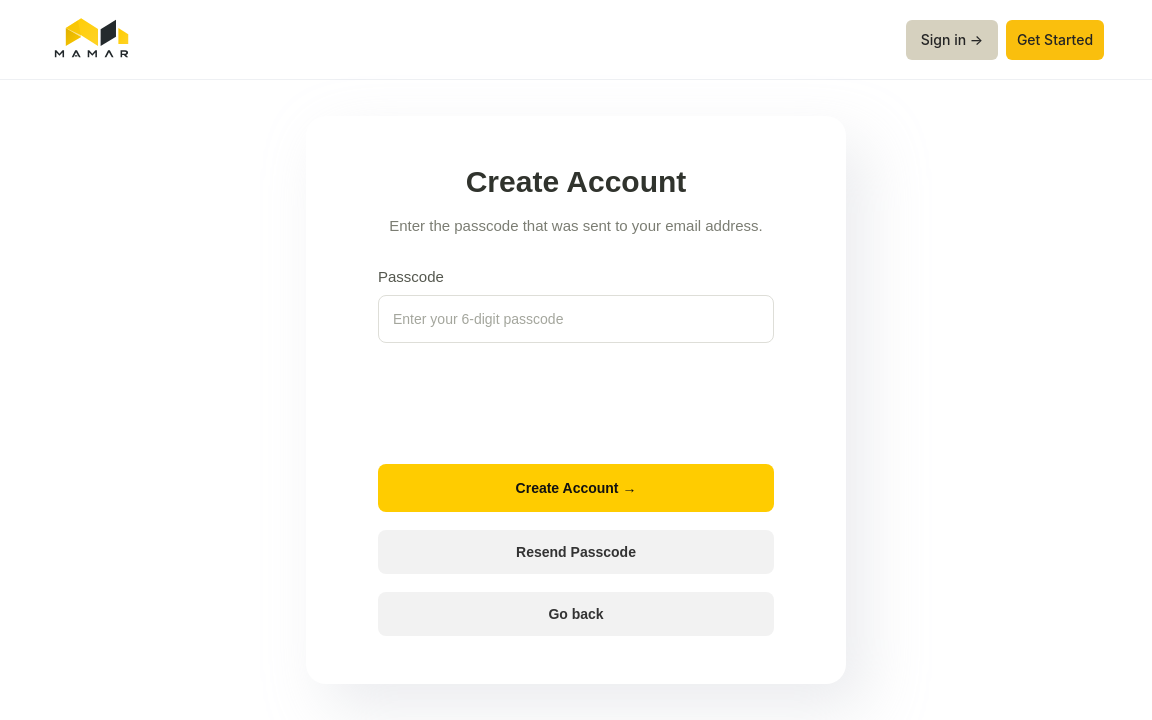
Test: RegisterVerificationPage - إنشاء الحساب › حقل الرمز يقبل أرقام فقط وبحد 6
Type "12ab34567890" into the field labelled "Passcode". click: (576, 319)
box: [378,295,774,343]
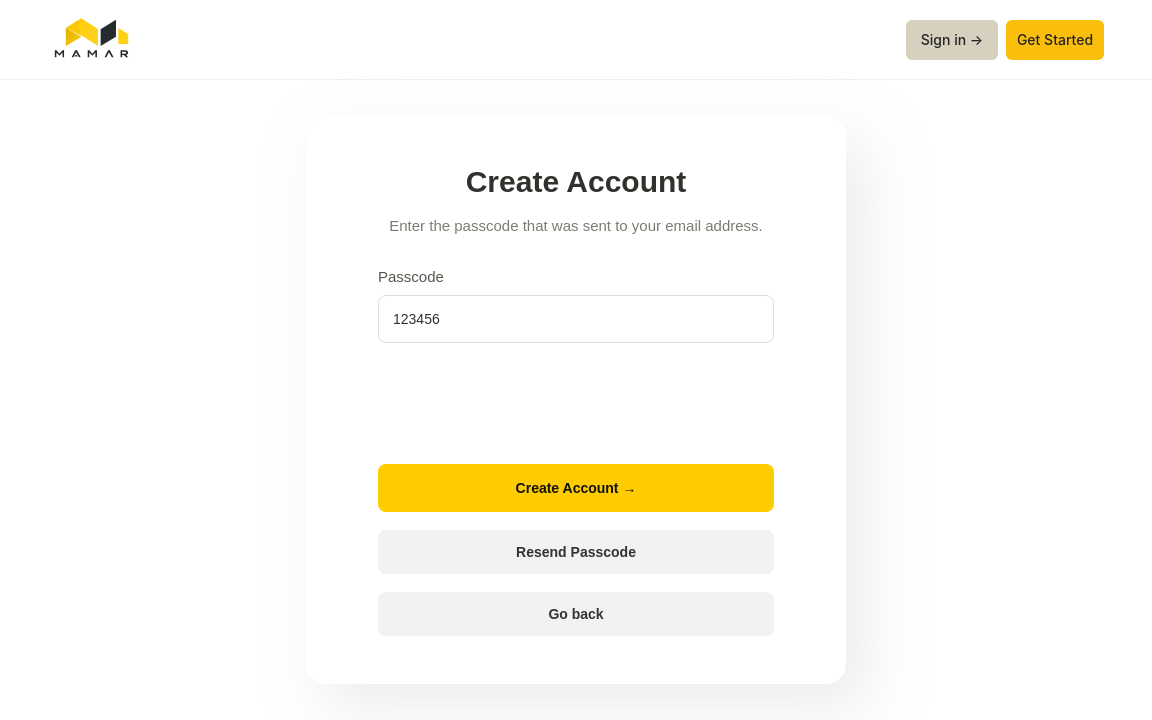
expect the field labelled "Passcode" holds "123456": met, box [378,295,774,343]
